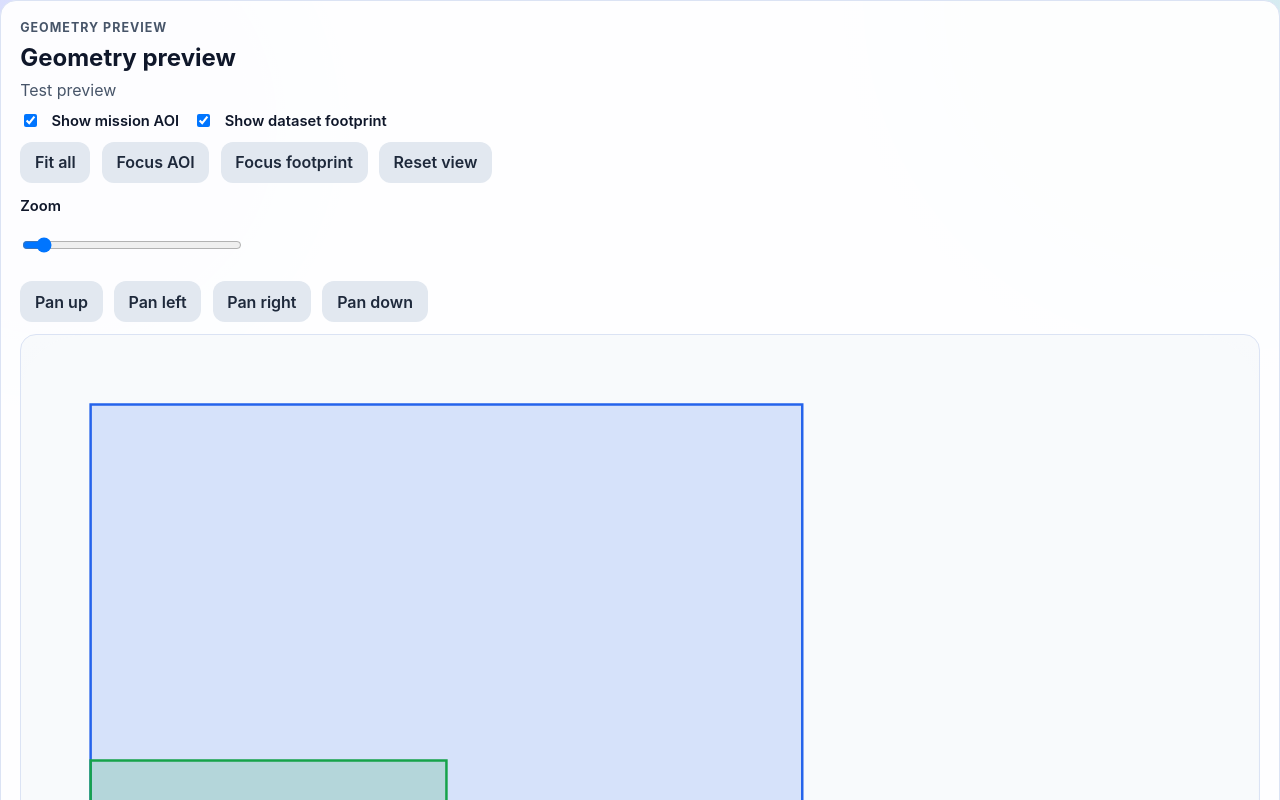
Test: GeometryPreviewCard › lets the user toggle geometry layers
This screenshot has width=1280, height=800.
Expected: the checkbox labelled "Show dataset footprint" is shown, [198, 114, 210, 127]
What coordinates should you click on to do the following:
click the checkbox labelled "Show mission AOI"
I would click on:
 (31, 120)
Its box is [24, 114, 37, 127].
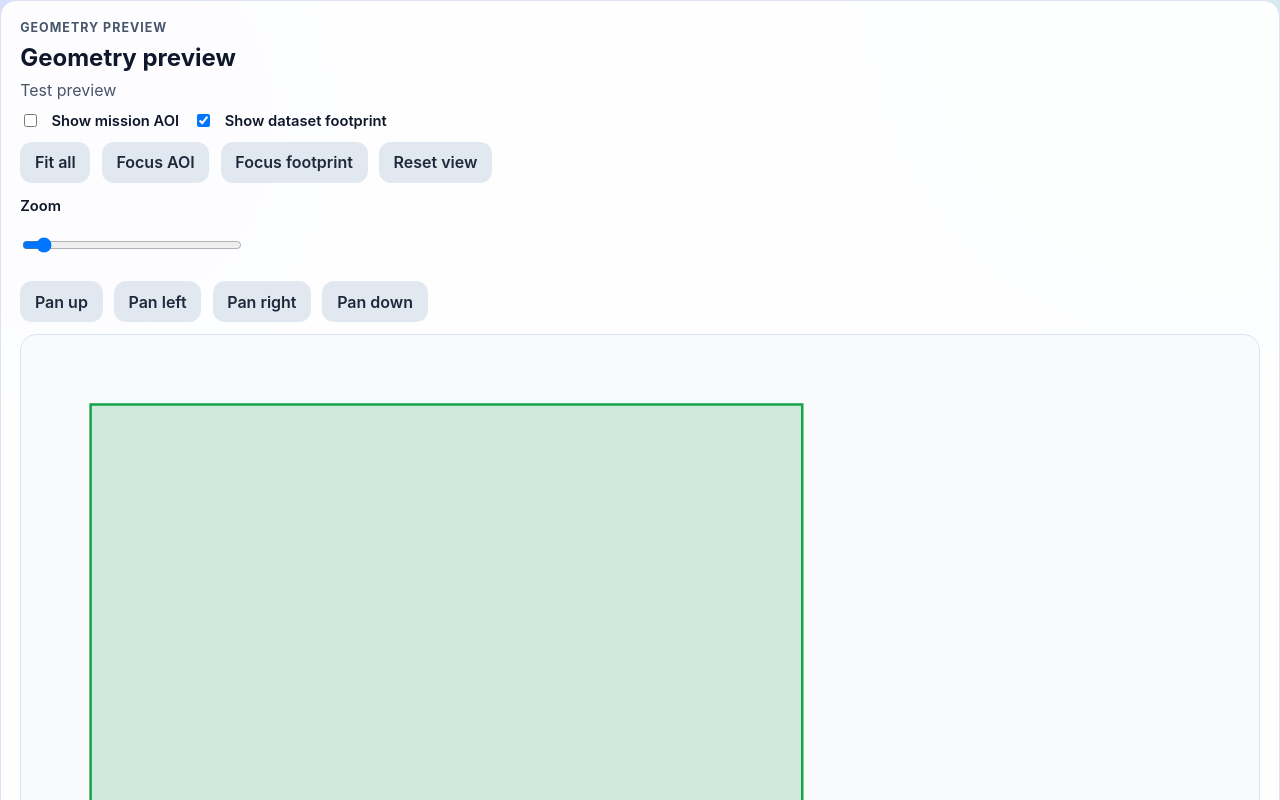
What coordinates should you click on to do the following:
click the checkbox labelled "Show dataset footprint"
I would click on:
 (204, 120)
Its box is [198, 114, 210, 127].
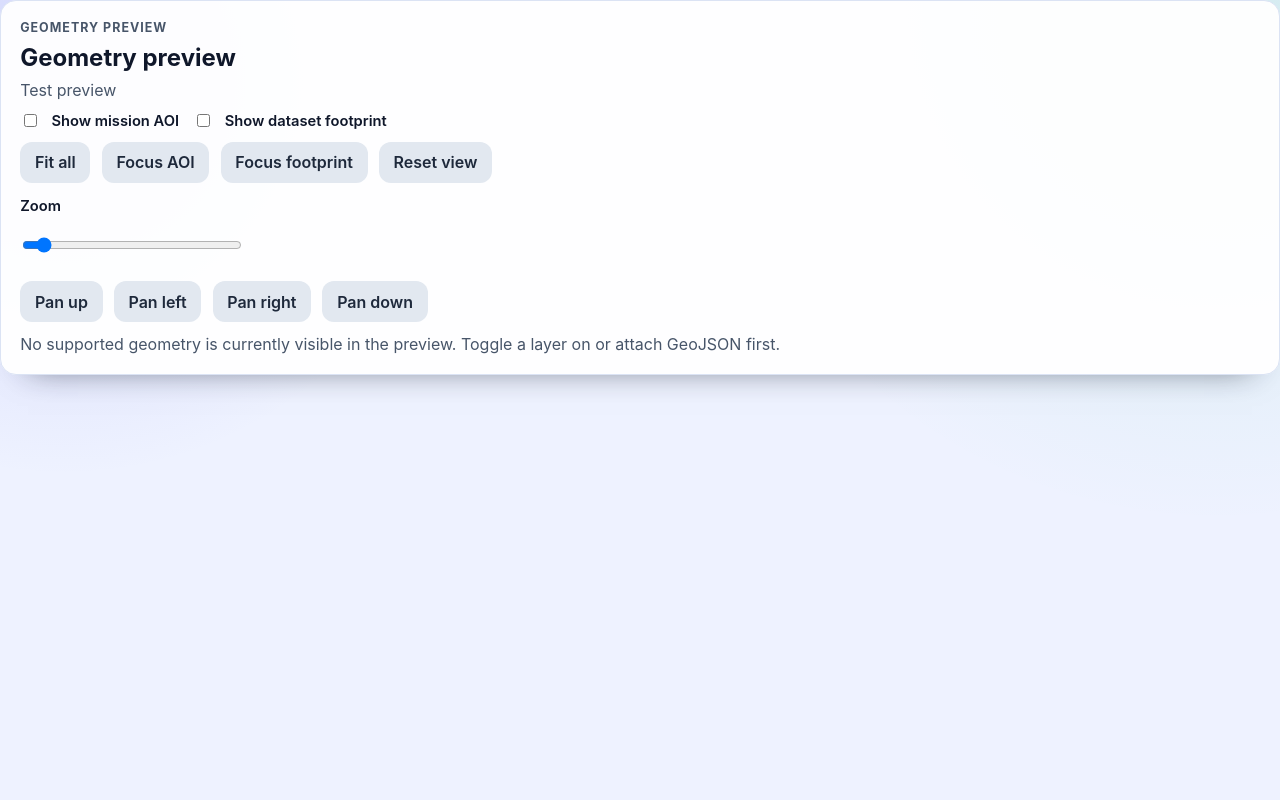
Result: the text "No supported geometry is currently visible" is shown at [20, 334, 780, 354]
